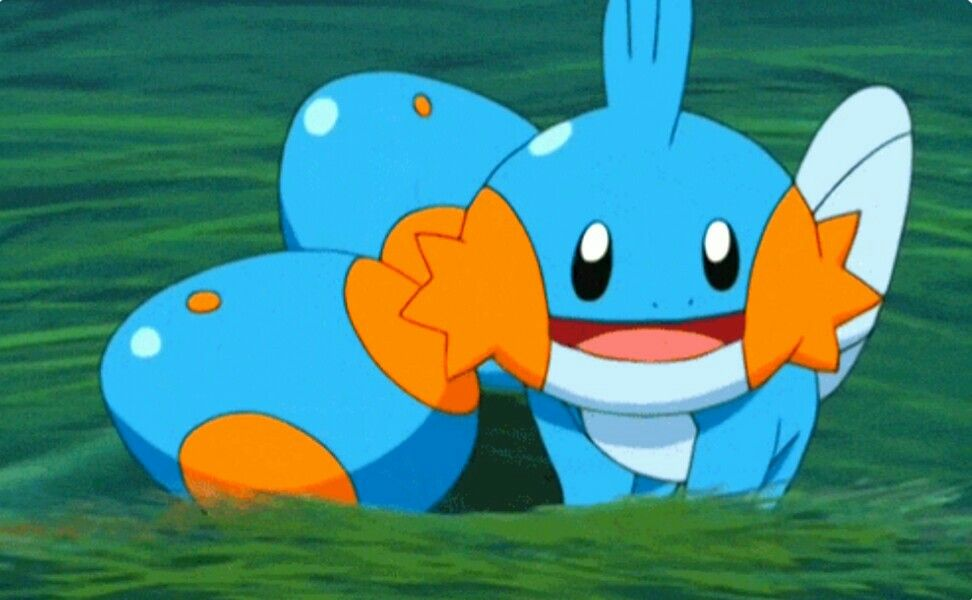mudkip: (410, 1, 930, 527)
